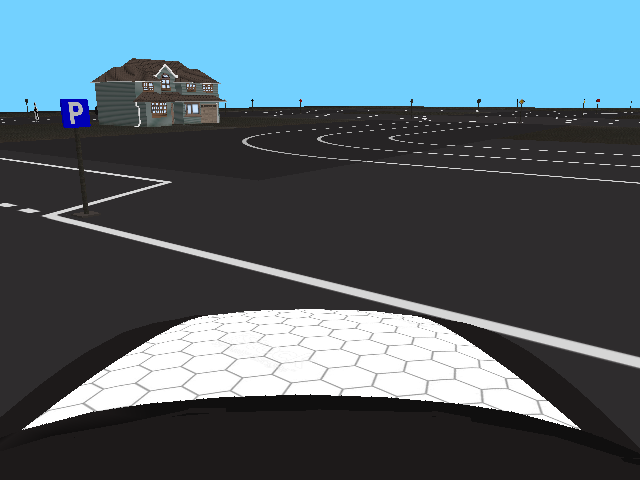parking: (59, 98, 92, 128)
